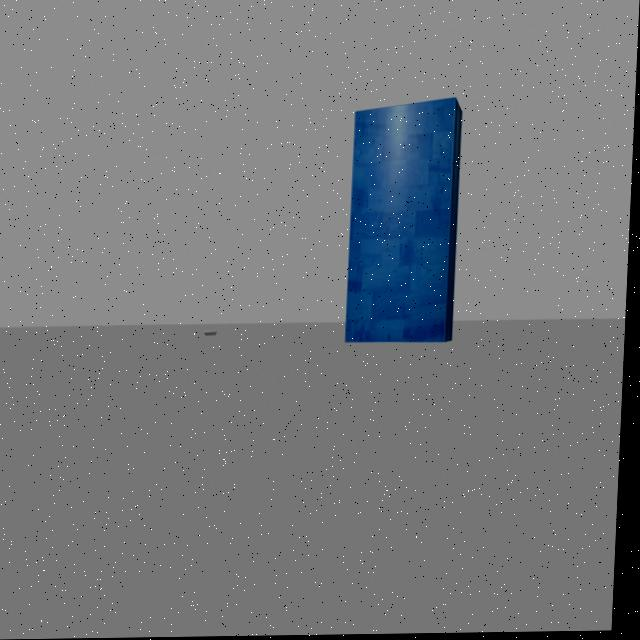bowl: (344, 93, 468, 353), (203, 328, 224, 337)
